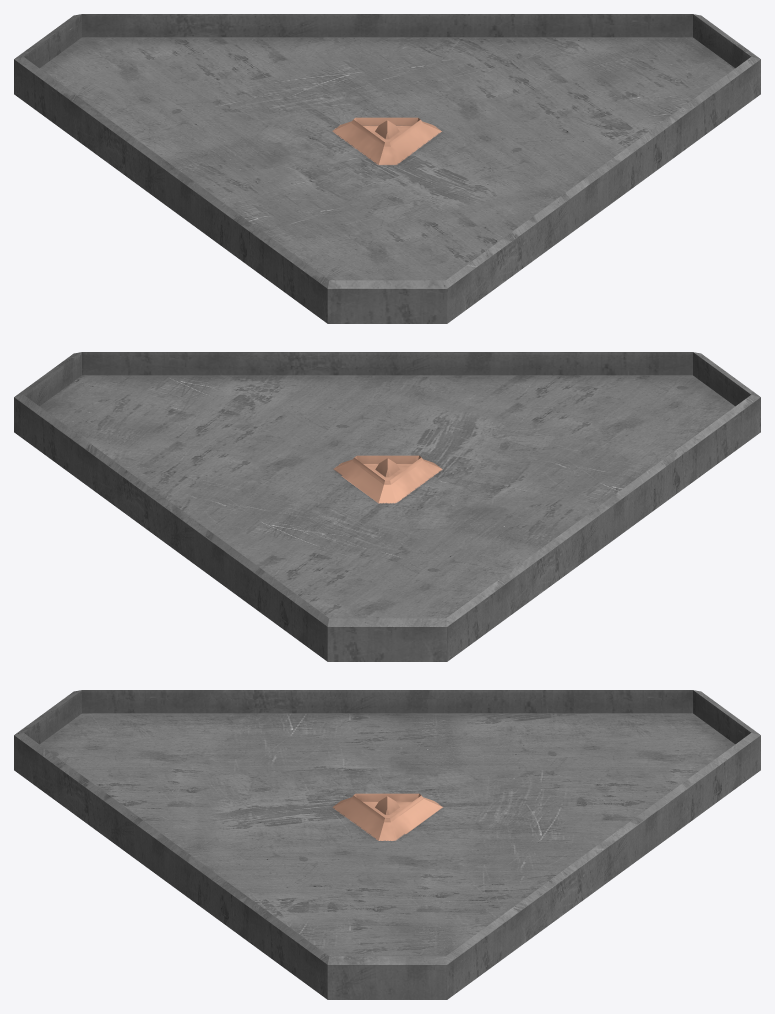
Rendered from PuzzlePieceSpaceTriangle.fbx.
3 views of the same model, one above another, from view 1: azimuth 30°, elevation 25°; view 2: azimuth 150°, elevation 25°; view 3: azimuth 270°, elevation 25° (orthographic).
Parts seen in each view (by area): view 1: Gengon002; view 2: Gengon002; view 3: Gengon002.
Boxes of the visible parts, x1=… form: Gengon002: x1=14, y1=14, x2=760, y2=323; Gengon002: x1=14, y1=352, x2=760, y2=661; Gengon002: x1=14, y1=690, x2=760, y2=999.
Bounding box in the file's own units: 113 × 7.57 × 131.
1 material, 1 textured.
